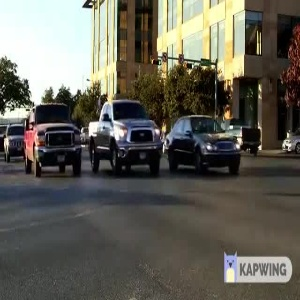car: (166, 111, 246, 170)
truck: (88, 95, 161, 174), (20, 96, 87, 175)
